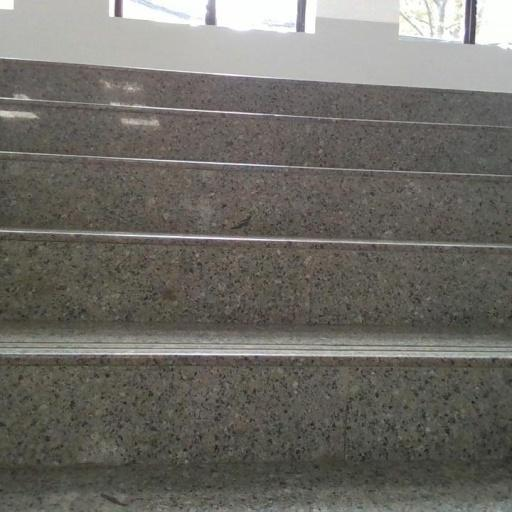stairs: (0, 60, 511, 511)
